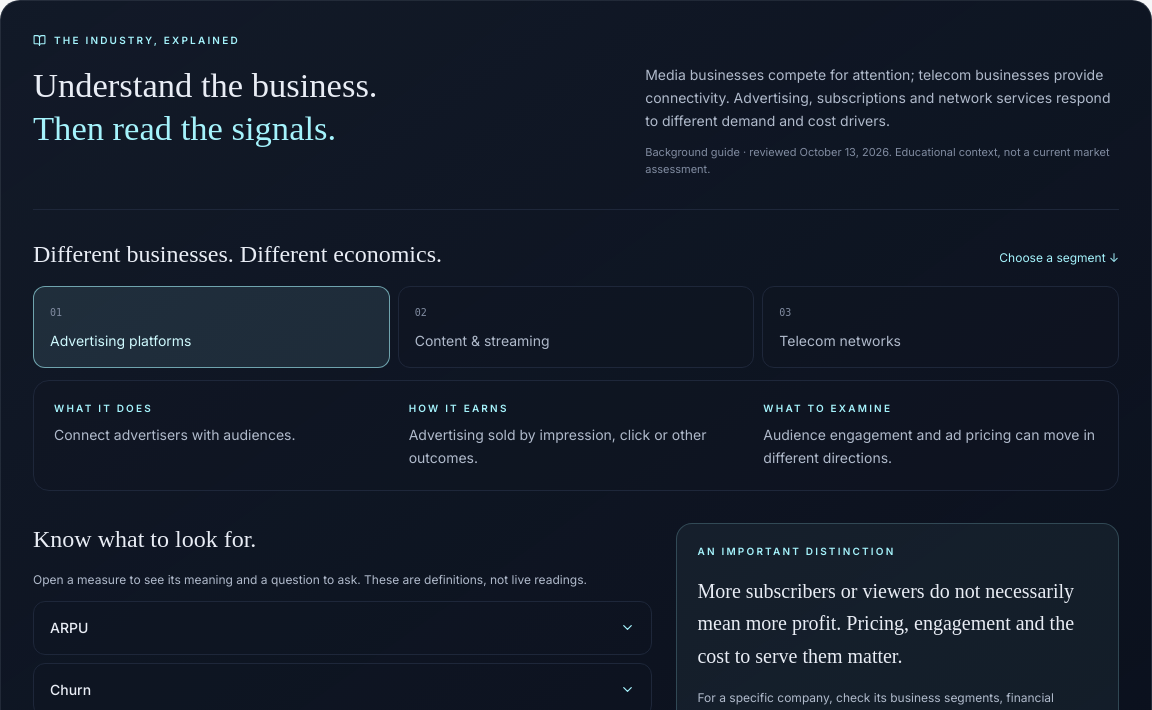
Test case: provides a usable distinct guide for media-telecom even without reporting
The image size is (1152, 710).
Click the button "02 Content & streaming": [482, 341] box [398,286,754,368]
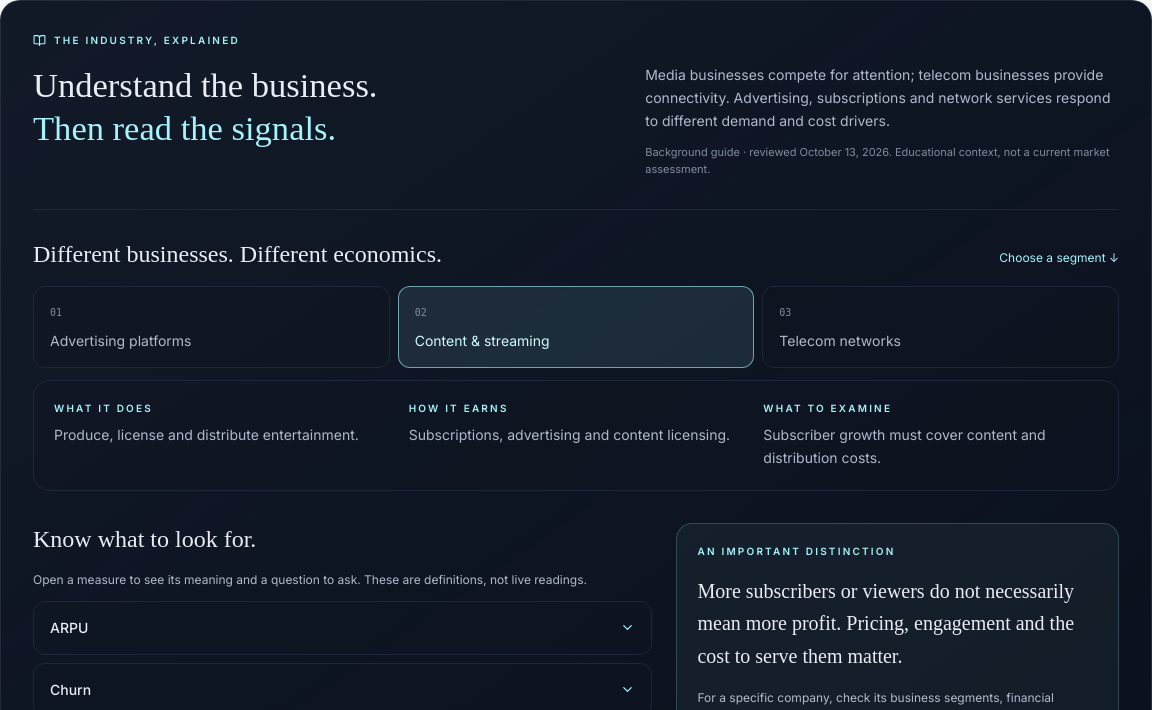
Expected: the text "definitions, not live readings" is shown, [33,572,587,587]
Result: the text "Subscriptions, advertising and content licensing." is shown at [409,424,743,447]
Result: the text "Advertising sold by impression, click or other outcomes." is gone
